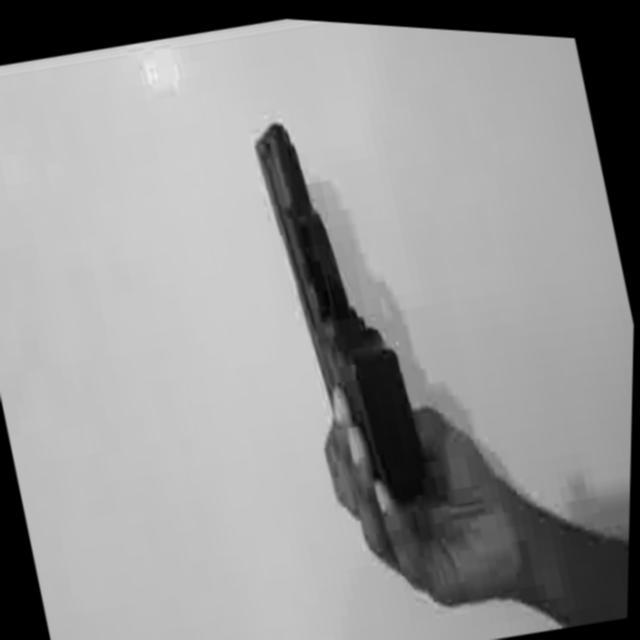weapon: (241, 97, 441, 514)
